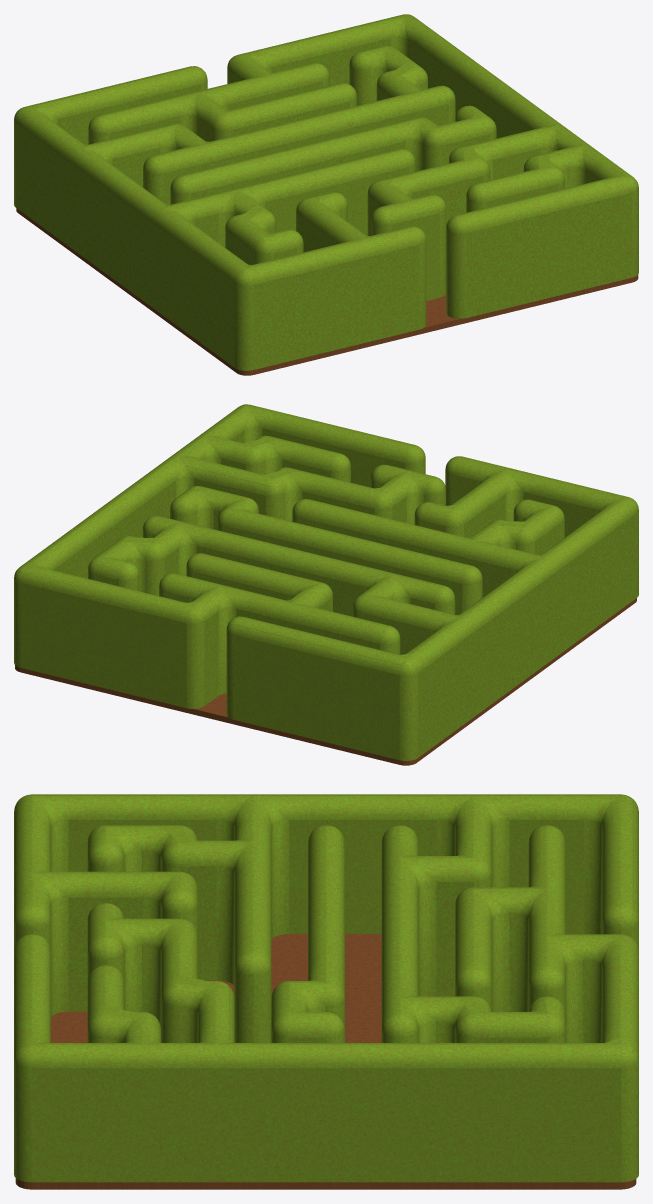
File: grassMaze.gltf
3 renders of one model, top to bottom at view 1: azimuth 30°, elevation 25°; view 2: azimuth 150°, elevation 25°; view 3: azimuth 270°, elevation 25°, orthographic. The views are drawn at different scales.
Visible parts, largest first — view 1: Plane, Plane.001; view 2: Plane, Plane.001; view 3: Plane, Plane.001.
Part boxes in pixels (left/top/right/bottom): Plane: left=14, top=14, right=638, bottom=370; Plane.001: left=16, top=208, right=638, bottom=375; Plane: left=14, top=404, right=638, bottom=760; Plane.001: left=15, top=598, right=636, bottom=765; Plane: left=14, top=794, right=638, bottom=1182; Plane.001: left=15, top=934, right=636, bottom=1189.
Size of the model in its own units: 38.99 by 9.49 by 39.06.
2 materials, 2 textured.
